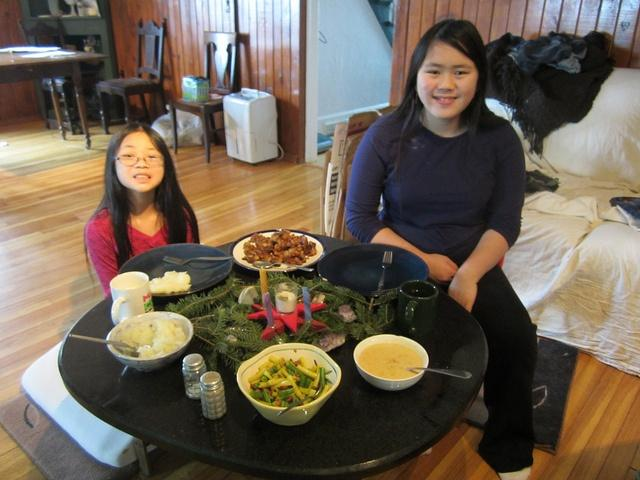Kursi: (95, 15, 175, 135), (170, 30, 241, 161)
